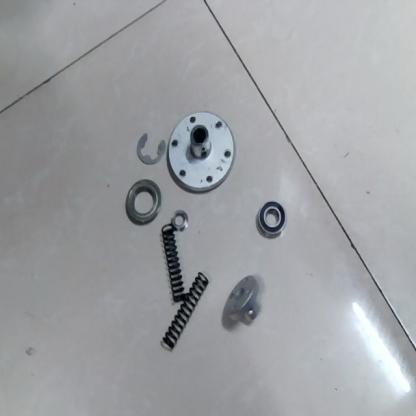FOD: (166, 109, 235, 198), (161, 270, 211, 351), (222, 273, 265, 334), (159, 224, 187, 305), (124, 176, 162, 227), (255, 198, 289, 241), (132, 127, 166, 166), (168, 208, 192, 233)
